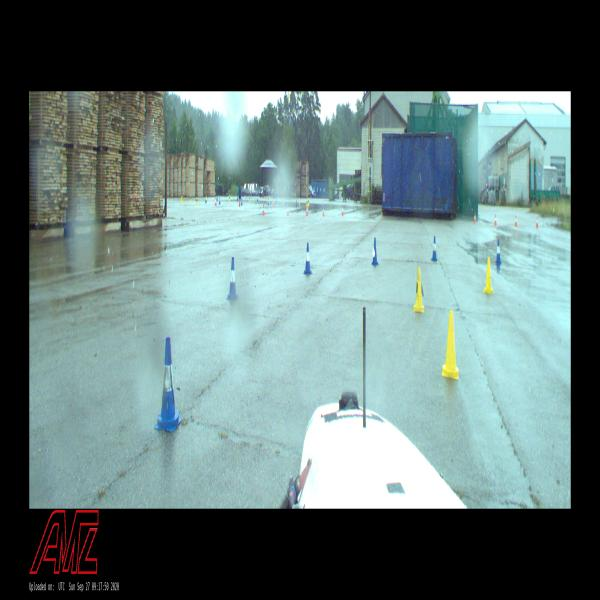blue_cone: (154, 338, 181, 432), (226, 259, 238, 301), (304, 244, 312, 274), (372, 239, 378, 265), (496, 239, 502, 264), (432, 236, 437, 261), (241, 198, 243, 205), (219, 196, 220, 205)
orange_cone: (514, 215, 518, 227), (322, 206, 325, 216), (341, 206, 344, 216), (536, 215, 538, 228), (494, 214, 496, 226), (474, 212, 476, 224), (306, 205, 308, 216), (262, 205, 264, 216), (287, 206, 289, 216), (239, 198, 240, 208), (215, 198, 216, 206)
yellow_cone: (442, 310, 458, 379), (414, 267, 424, 313), (484, 258, 494, 294), (196, 196, 198, 205), (306, 198, 308, 207), (228, 194, 230, 201), (189, 194, 191, 201), (308, 198, 309, 206), (182, 195, 183, 202), (250, 195, 251, 202)
